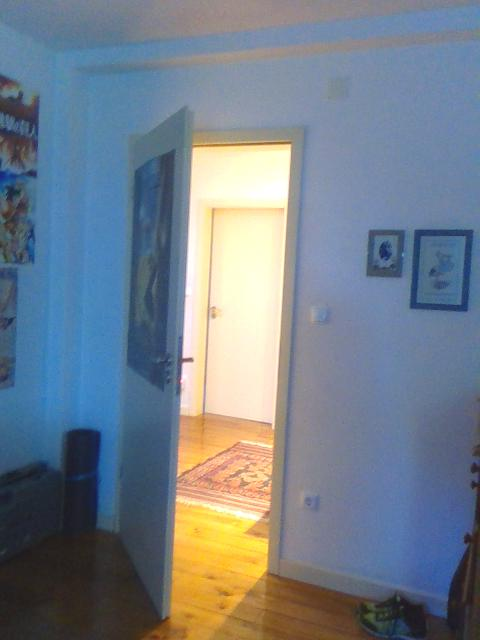semi_door: (111, 101, 310, 623)
